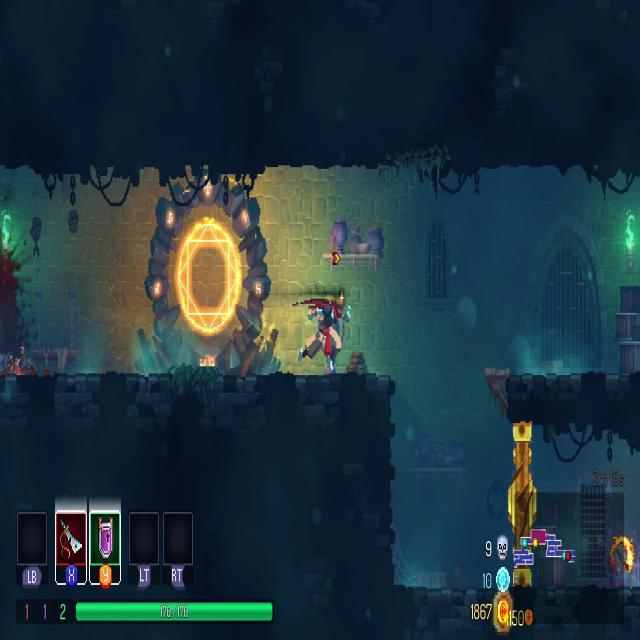agents: (308, 296, 354, 378)
